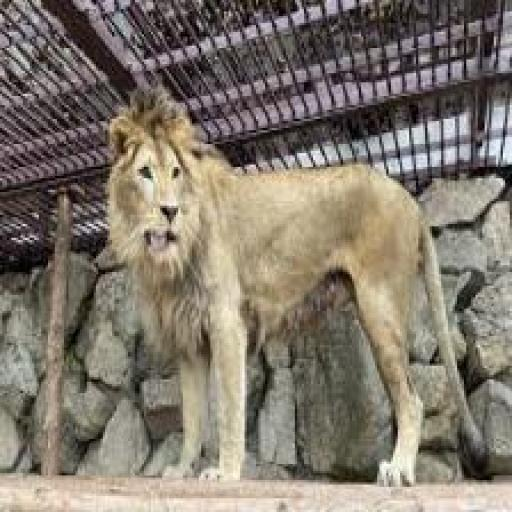lion: (80, 71, 510, 495)
